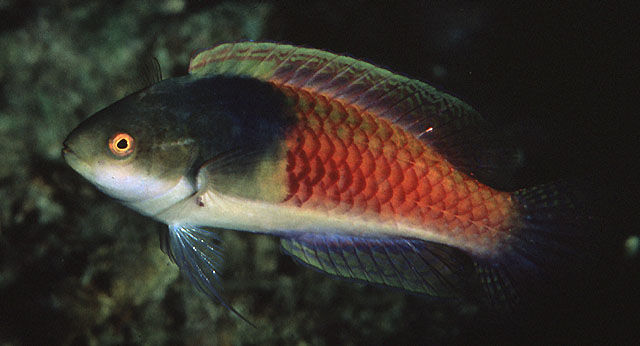fish: (61, 41, 561, 331)
